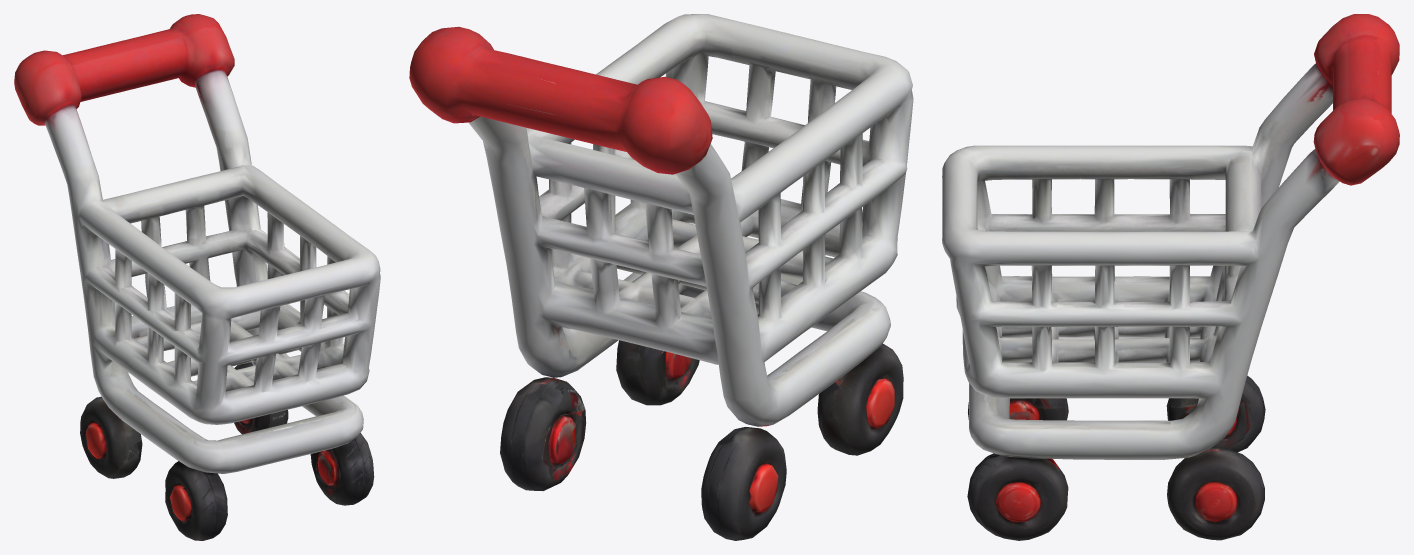
The model's file is user-avator.glb.
The picture shows the model from 3 angles, left to right: view 1: azimuth 30°, elevation 25°; view 2: azimuth 150°, elevation 25°; view 3: azimuth 270°, elevation 25°; orthographic projection. The views are drawn at different scales.
Visible parts, largest first — view 1: Mesh_0.001; view 2: Mesh_0.001; view 3: Mesh_0.001.
Boxes of the visible parts, x1,y1,x2,y2 form: Mesh_0.001: (14, 14, 380, 540); Mesh_0.001: (409, 14, 913, 540); Mesh_0.001: (942, 14, 1399, 540).
Bounding box in the file's own units: 5.67 × 10 × 9.48.
Materials: 1 (1 with a texture image).
